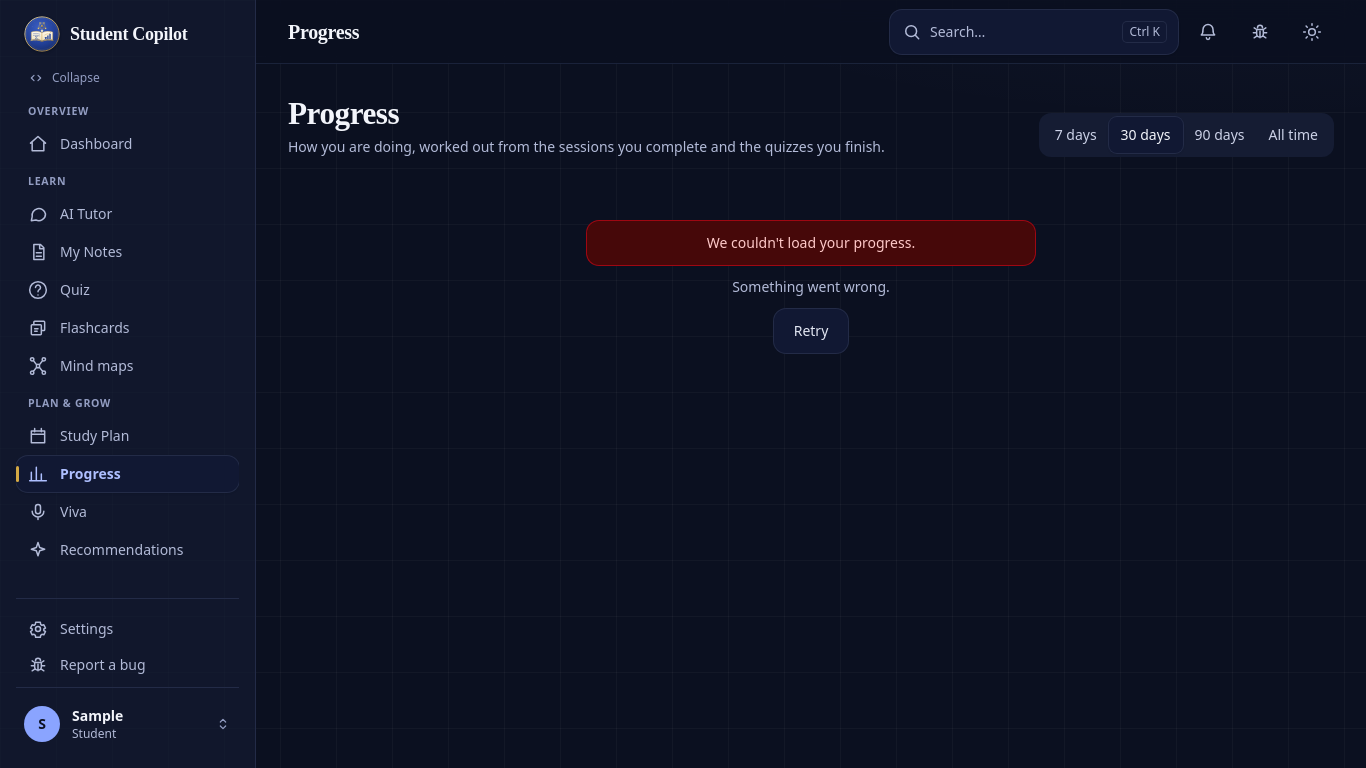
Test: loading, errors and no data › shows a clear error with Retry, and recovers
Expected: the text "We couldn't load your progress." is shown, [587, 221, 1035, 265]
Expected: the text "%" is not shown
Click the button "Retry" at (811, 331), box [774, 309, 848, 353]
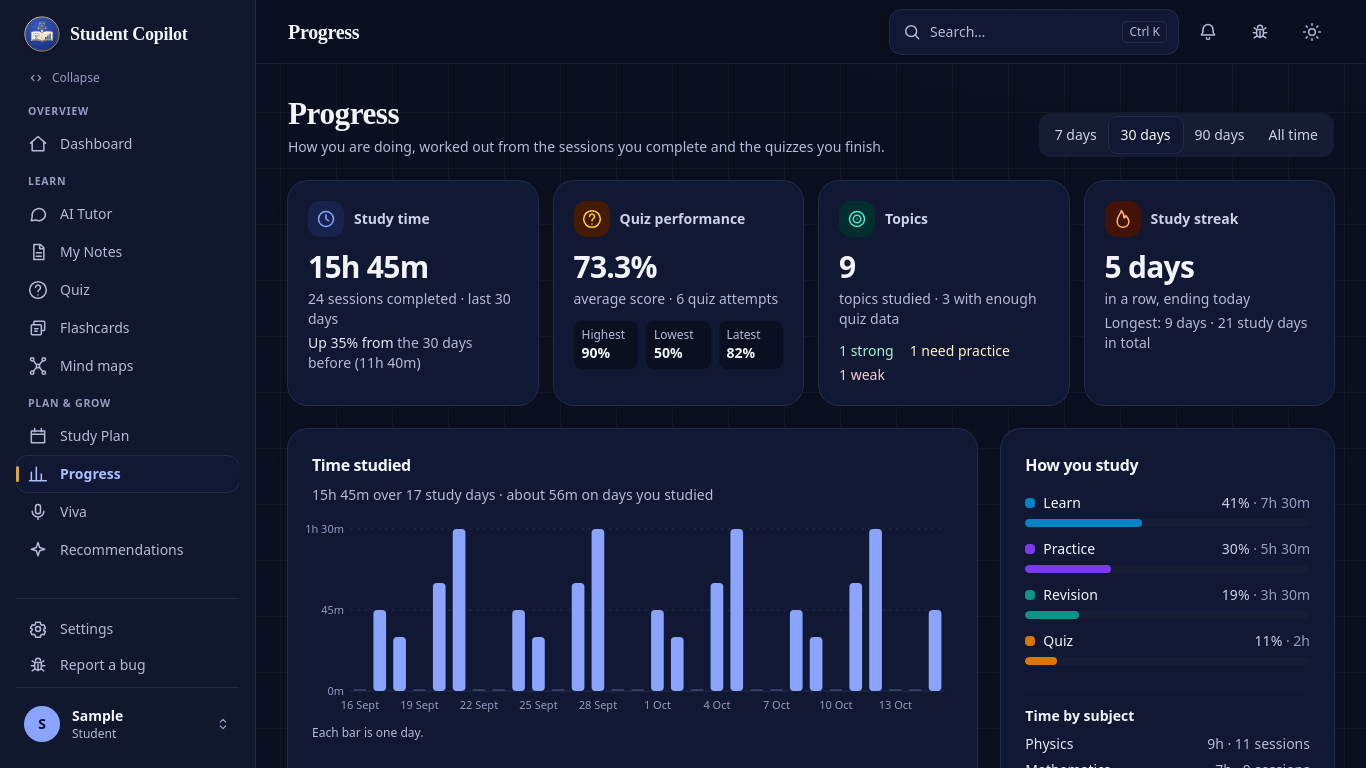
Expected: the element "Study time" is shown, [288, 181, 538, 405]
